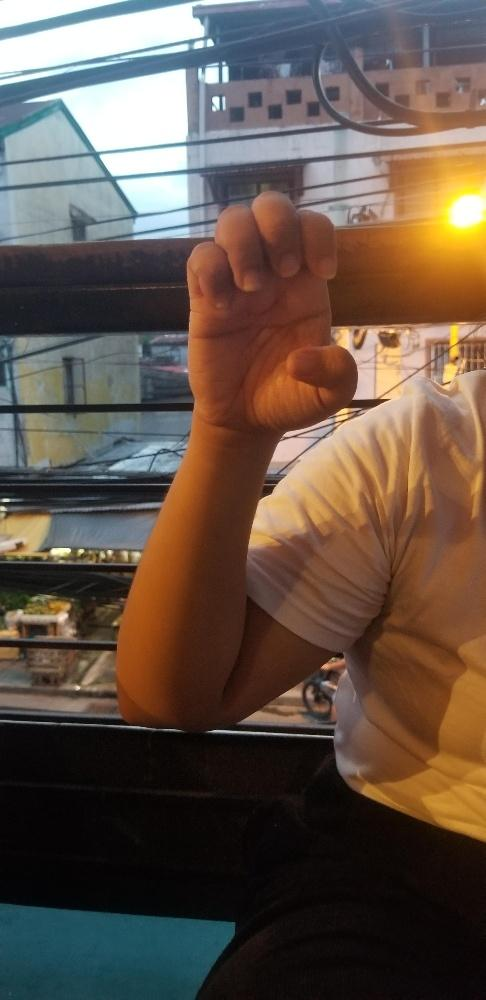e: (181, 188, 360, 433)
